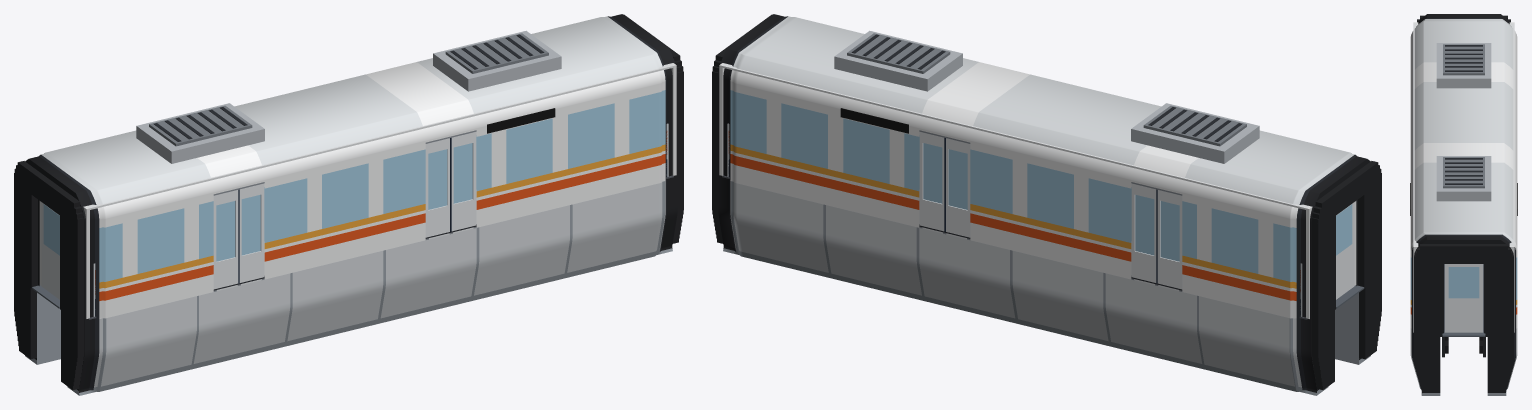
The model's file is yui_rail_car.obj.
The picture shows the model from 3 angles, left to right: view 1: azimuth 30°, elevation 25°; view 2: azimuth 150°, elevation 25°; view 3: azimuth 270°, elevation 25°; orthographic projection. The views are drawn at different scales.
Parts seen in each view (by area): view 1: SHELL, SHELL_diaphragm, SHELL_roof, EXTERNAL_DOOR_4_CG_DR1_TOGGLE_TL_-0.54_X, EXTERNAL_DOOR_10_CG_DR2_TOGGLE_TL_-0.54_X, EXTERNAL_DOOR_5_CG_DR1_TOGGLE_TL_0.54_X, EXTERNAL_DOOR_11_CG_DR2_TOGGLE_TL_0.54_X, SHELL_ceiling, CONNECTING_DOOR_1_CG_CR_TOGGLE_TL_0.98_Z, SHELL_end, SHELL_sign; view 2: SHELL, SHELL_diaphragm, SHELL_roof, EXTERNAL_DOOR_7_CG_DL1_TOGGLE_TL_-0.54_X, EXTERNAL_DOOR_13_CG_DL2_TOGGLE_TL_-0.54_X, EXTERNAL_DOOR_8_CG_DL1_TOGGLE_TL_0.54_X, EXTERNAL_DOOR_14_CG_DL2_TOGGLE_TL_0.54_X, SHELL_ceiling, CONNECTING_DOOR_1_CG_CR_TOGGLE_TL_0.98_Z, SHELL_end, SHELL_sign; view 3: SHELL, SHELL_diaphragm, SHELL_roof, CONNECTING_DOOR_2_CG_CF_TOGGLE_TL_0.98_Z, SHELL_ceiling, BOGEY_FRONT, SHELL_end, SHELL_gangway, SHELL_floor.
Part boxes in pixels (bbox=[...]): SHELL: bbox=[25, 14, 677, 395]; SHELL_diaphragm: bbox=[14, 14, 683, 389]; SHELL_roof: bbox=[136, 30, 561, 163]; EXTERNAL_DOOR_4_CG_DR1_TOGGLE_TL_-0.54_X: bbox=[213, 189, 239, 289]; EXTERNAL_DOOR_10_CG_DR2_TOGGLE_TL_-0.54_X: bbox=[425, 138, 451, 237]; EXTERNAL_DOOR_5_CG_DR1_TOGGLE_TL_0.54_X: bbox=[239, 183, 264, 282]; EXTERNAL_DOOR_11_CG_DR2_TOGGLE_TL_0.54_X: bbox=[451, 132, 476, 231]; SHELL_ceiling: bbox=[24, 63, 673, 209]; CONNECTING_DOOR_1_CG_CR_TOGGLE_TL_0.98_Z: bbox=[41, 202, 59, 299]; SHELL_end: bbox=[39, 63, 676, 318]; SHELL_sign: bbox=[487, 108, 555, 133]; SHELL: bbox=[718, 14, 1370, 395]; SHELL_diaphragm: bbox=[712, 14, 1381, 389]; SHELL_roof: bbox=[834, 30, 1259, 163]; EXTERNAL_DOOR_7_CG_DL1_TOGGLE_TL_-0.54_X: bbox=[1156, 189, 1182, 289]; EXTERNAL_DOOR_13_CG_DL2_TOGGLE_TL_-0.54_X: bbox=[944, 138, 970, 237]; EXTERNAL_DOOR_8_CG_DL1_TOGGLE_TL_0.54_X: bbox=[1131, 183, 1156, 282]; EXTERNAL_DOOR_14_CG_DL2_TOGGLE_TL_0.54_X: bbox=[919, 132, 944, 231]; SHELL_ceiling: bbox=[722, 63, 1371, 210]; CONNECTING_DOOR_1_CG_CR_TOGGLE_TL_0.98_Z: bbox=[1336, 202, 1354, 299]; SHELL_end: bbox=[719, 63, 1356, 318]; SHELL_sign: bbox=[840, 108, 908, 133]; SHELL: bbox=[1410, 14, 1517, 395]; SHELL_diaphragm: bbox=[1414, 15, 1513, 392]; SHELL_roof: bbox=[1436, 43, 1491, 201]; CONNECTING_DOOR_2_CG_CF_TOGGLE_TL_0.98_Z: bbox=[1445, 264, 1482, 332]; SHELL_ceiling: bbox=[1413, 23, 1514, 245]; BOGEY_FRONT: bbox=[1442, 335, 1485, 357]; SHELL_end: bbox=[1413, 22, 1514, 332]; SHELL_gangway: bbox=[1442, 331, 1485, 336]; SHELL_floor: bbox=[1444, 264, 1483, 331].
Size of the model in its own units: 14.32 by 4.86 by 2.82.
Materials: 1 (1 with a texture image).
